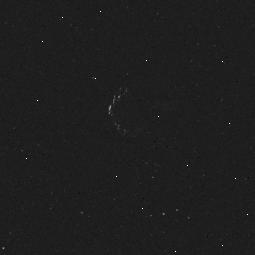soho: (102, 70, 200, 150)
